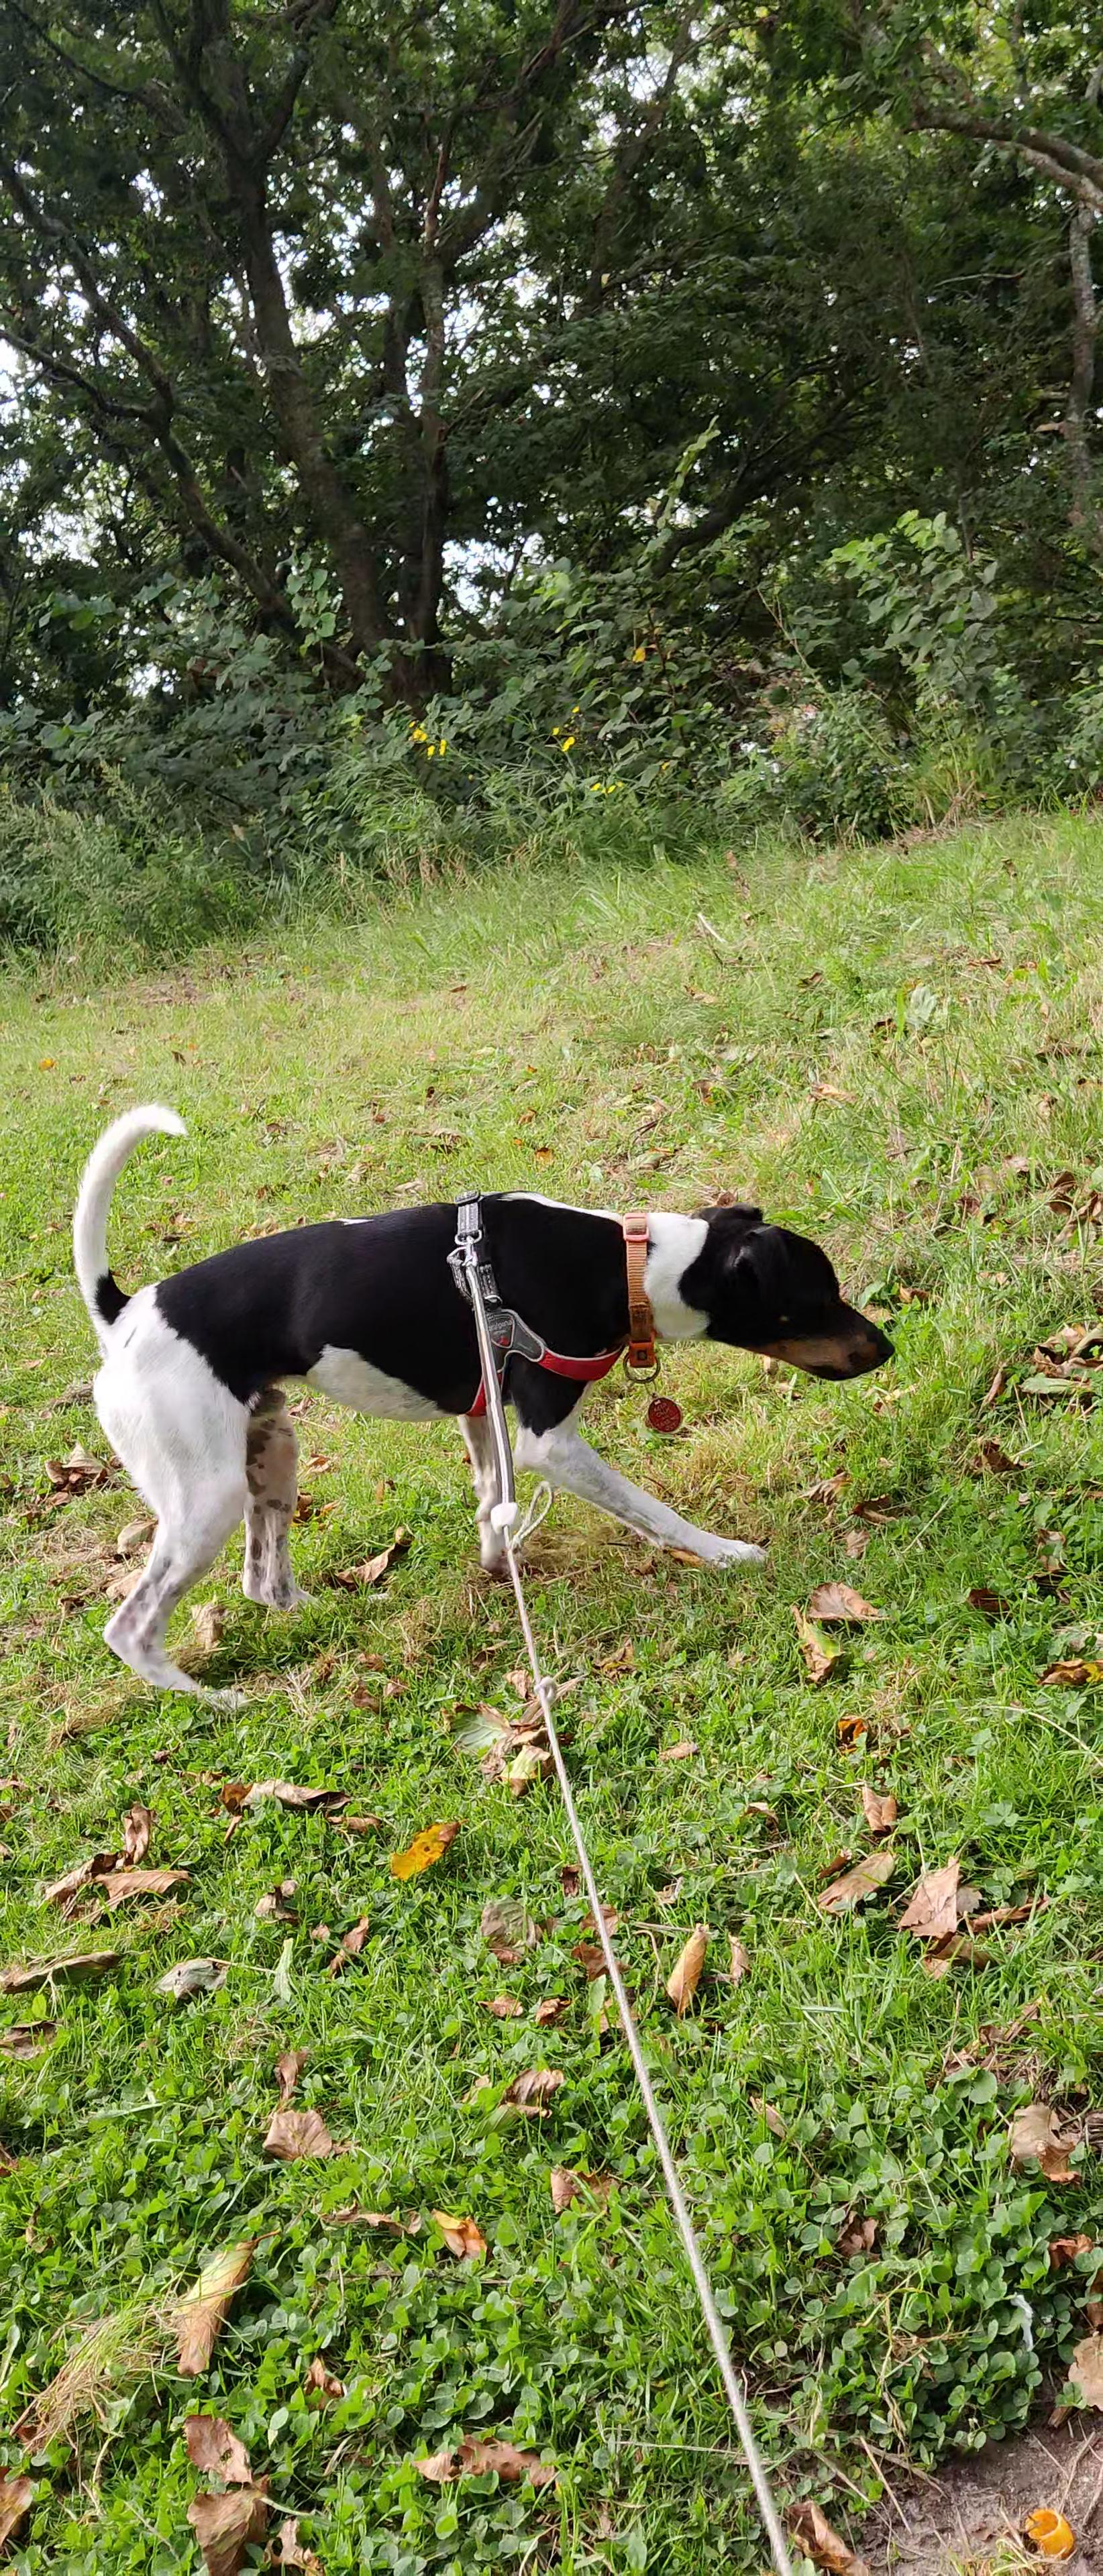Dog: (48, 1071, 909, 1720)
